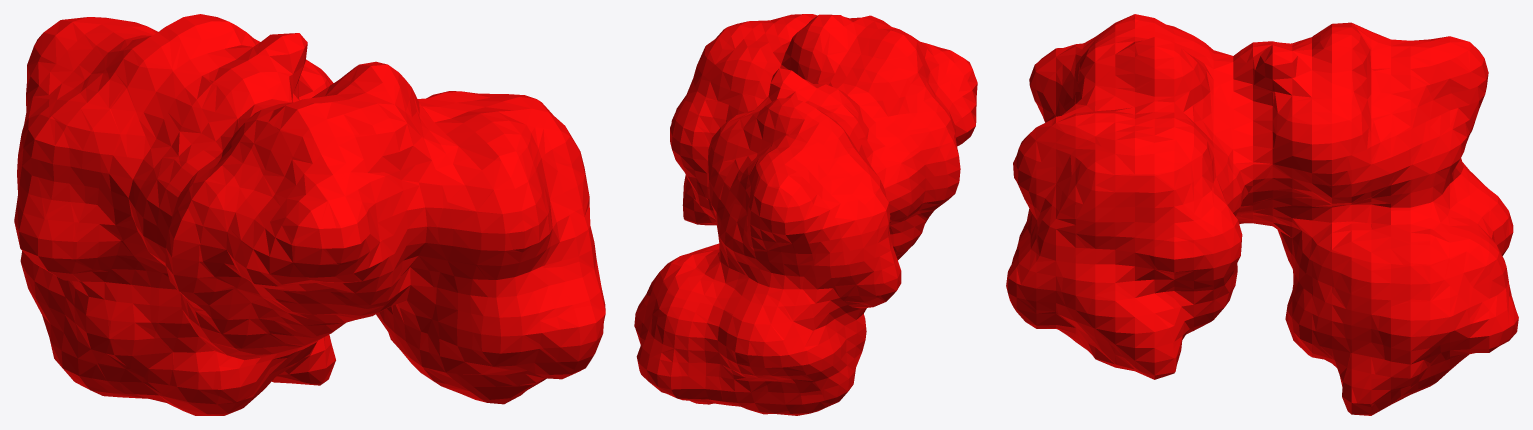
The model's file is dapF_coarse.dae.
3 renders of one model, left to right at view 1: azimuth 30°, elevation 25°; view 2: azimuth 150°, elevation 25°; view 3: azimuth 270°, elevation 25°, orthographic. The views are drawn at different scales.
Visible parts, largest first — view 1: dapF; view 2: dapF; view 3: dapF.
Part boxes in pixels (x1,y1,x2,y2): dapF: (14, 14, 605, 415); dapF: (634, 14, 977, 415); dapF: (1006, 14, 1518, 415).
Size of the model in its own units: 66.13 by 63.63 by 84.04.
